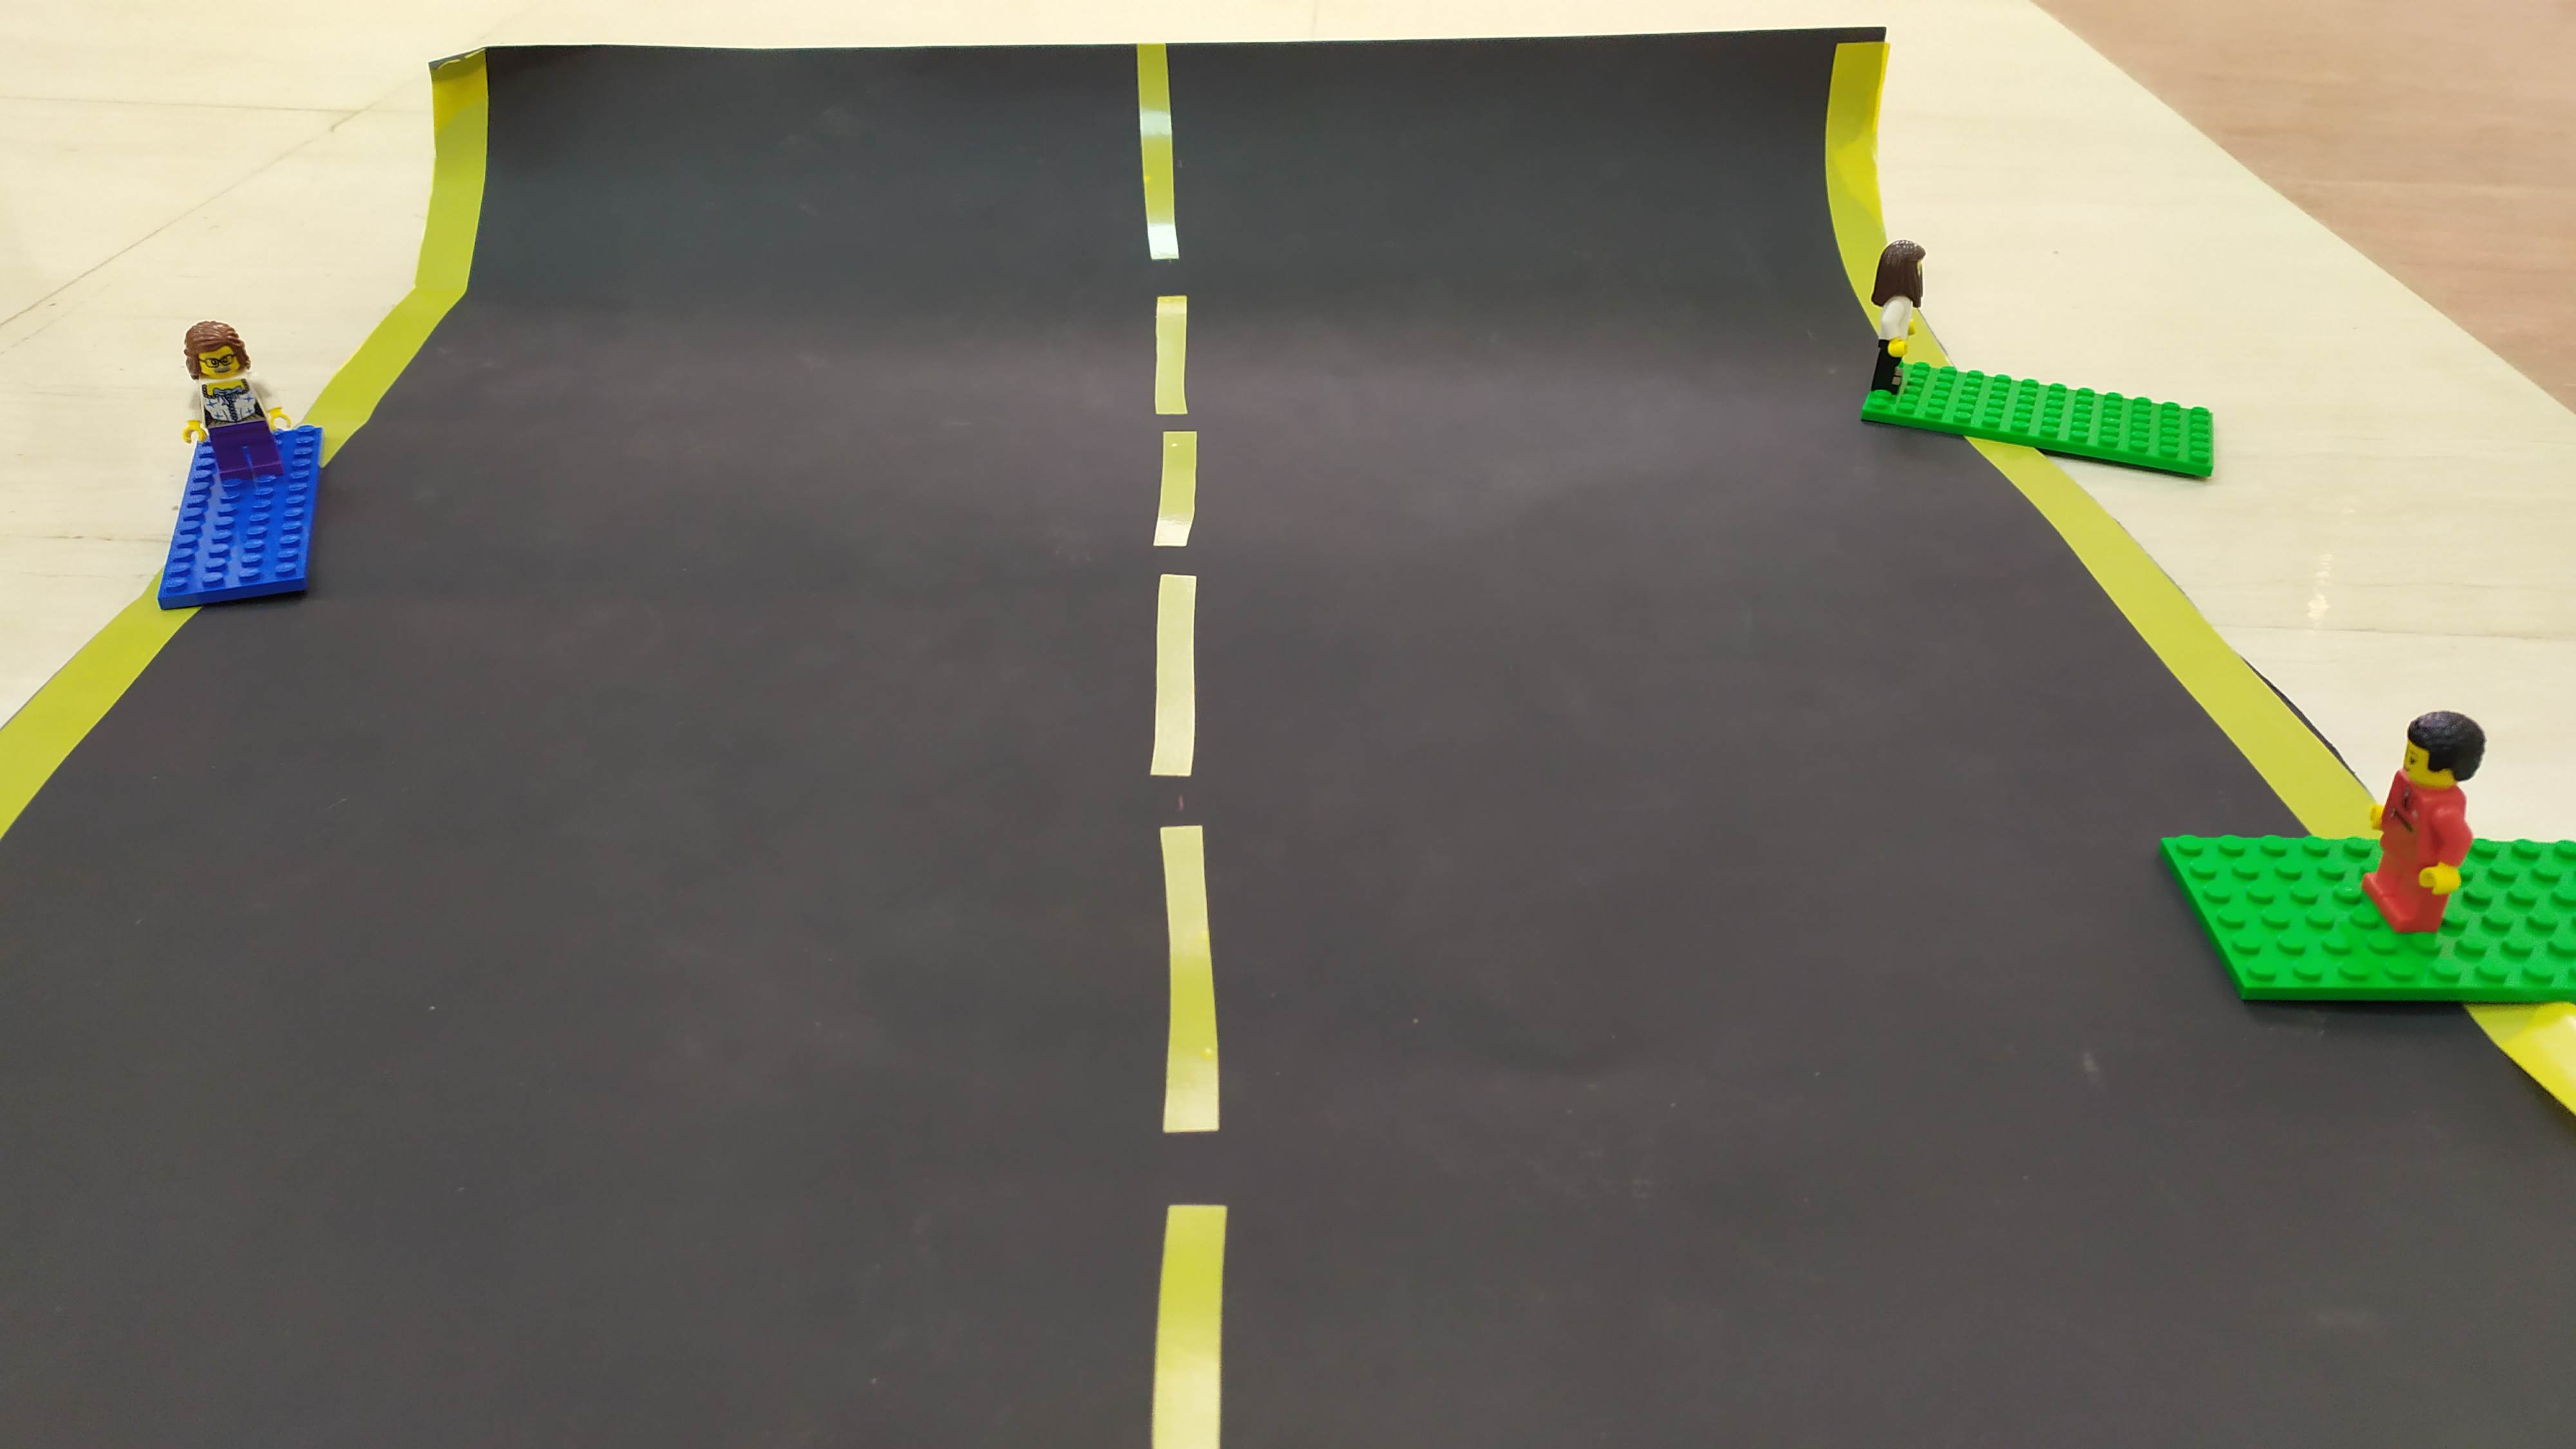Person: (2354, 673, 2521, 956), (177, 287, 293, 499), (1845, 235, 1961, 415)
